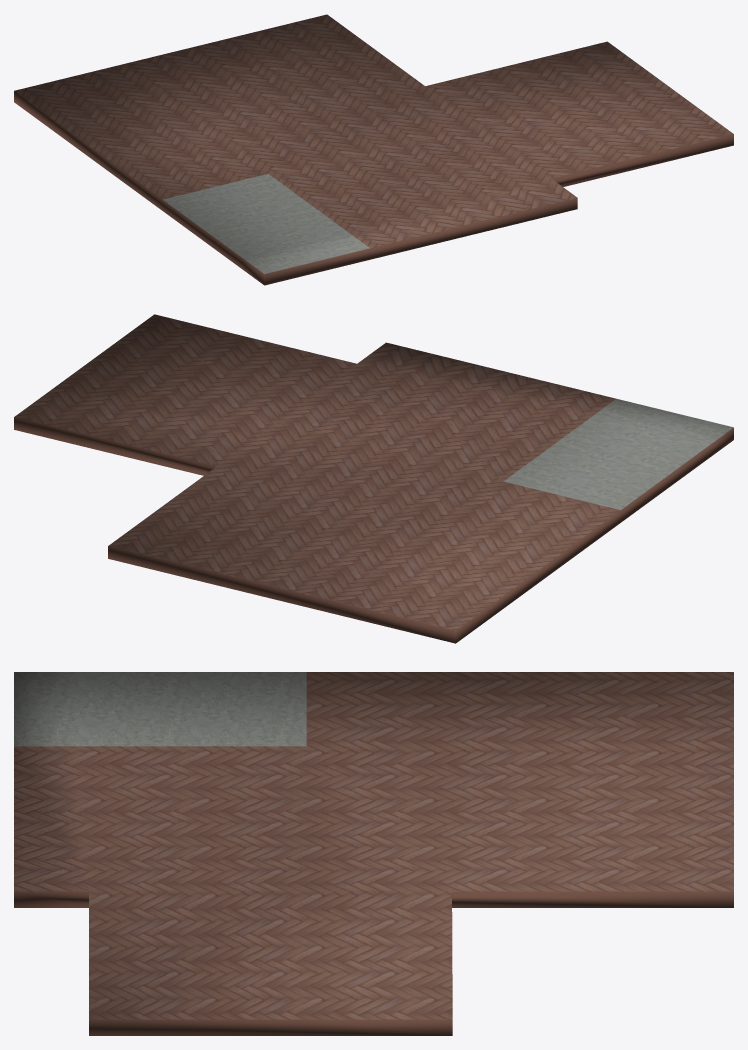
File: Floor_slab.fbx
The picture shows the model from 3 angles, top to bottom: view 1: azimuth 30°, elevation 25°; view 2: azimuth 150°, elevation 25°; view 3: azimuth 270°, elevation 25°; orthographic projection. The views are drawn at different scales.
Visible parts, largest first — view 1: Floor_plane; view 2: Floor_plane; view 3: Floor_plane.
Part boxes in pixels (<box>): Floor_plane: <box>14,14,733,285</box>; Floor_plane: <box>14,314,733,643</box>; Floor_plane: <box>14,672,733,1035</box>.
Size of the model in its own units: 1787 by 39.21 by 1564.
